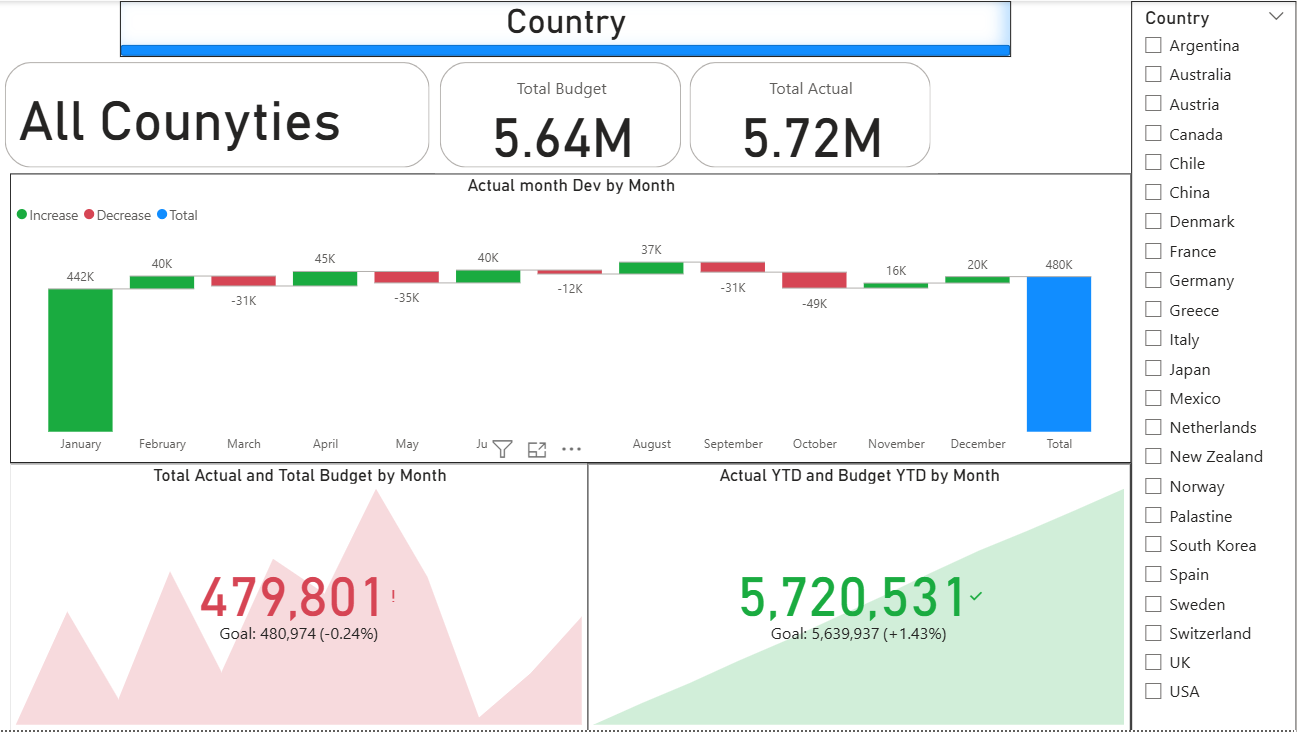

The page's visual inventory and layout, read from the dashboard file:
{"tool":"powerbi","page":{"name":"country","canvas":[1280,720],"ordinal":2},"visuals":[{"type":"cardVisual","fields":{"Data":["Measure.Select Country"]},"box":[0,55.5,429.5,114.6],"z":0},{"type":"slicer","fields":{"Values":["Region.Country"]},"box":[1115.9,0,164.4,720.5],"z":1000},{"type":"waterfallChart","fields":{"Category":["Calendar Table.Date.Variation.Date Hierarchy.Month"],"Y":["Measure.Actual month Dev"]},"box":[9.7,170.1,1106.3,285.9],"z":2000},{"type":"kpi","fields":{"Indicator":["Measure.Total Actual"],"Goal":["Measure.Total Budget"],"TrendLine":["Calendar Table.Date.Variation.Date Hierarchy.Month"]},"box":[9.7,456,570.6,264.2],"z":3000},{"type":"kpi","fields":{"TrendLine":["Calendar Table.Date.Variation.Date Hierarchy.Month"],"Indicator":["Measure.Actual YTD"],"Goal":["Measure.Budget YTD"]},"box":[580.3,456,535.7,264.2],"z":4000},{"type":"cardVisual","fields":{"Data":["Measure.Total Budget","Measure.Total Actual"]},"box":[429.5,55.5,495.8,114.6],"z":4001},{"type":"shape","title":"Country ","box":[118.2,0,879.5,55.5],"z":4002}]}

Visuals, with their boxes in screenshot pixels (x1, y1, x2, y2), scaled from the page's 1280x720 canvas onto the 1297x732 screenshot:
cardVisual - Measure.Select Country: pyautogui.locateOnScreen(0, 56, 435, 173)
slicer - Region.Country: pyautogui.locateOnScreen(1131, 0, 1296, 731)
waterfallChart - Calendar Table.Date.Variation.Date Hierarchy.Month x Measure.Actual month Dev: pyautogui.locateOnScreen(10, 173, 1131, 464)
kpi - Measure.Total Actual x Measure.Total Budget: pyautogui.locateOnScreen(10, 464, 588, 731)
kpi - Calendar Table.Date.Variation.Date Hierarchy.Month x Measure.Actual YTD: pyautogui.locateOnScreen(588, 464, 1131, 731)
cardVisual - Measure.Total Budget x Measure.Total Actual: pyautogui.locateOnScreen(435, 56, 938, 173)
"Country " shape: pyautogui.locateOnScreen(120, 0, 1011, 56)
